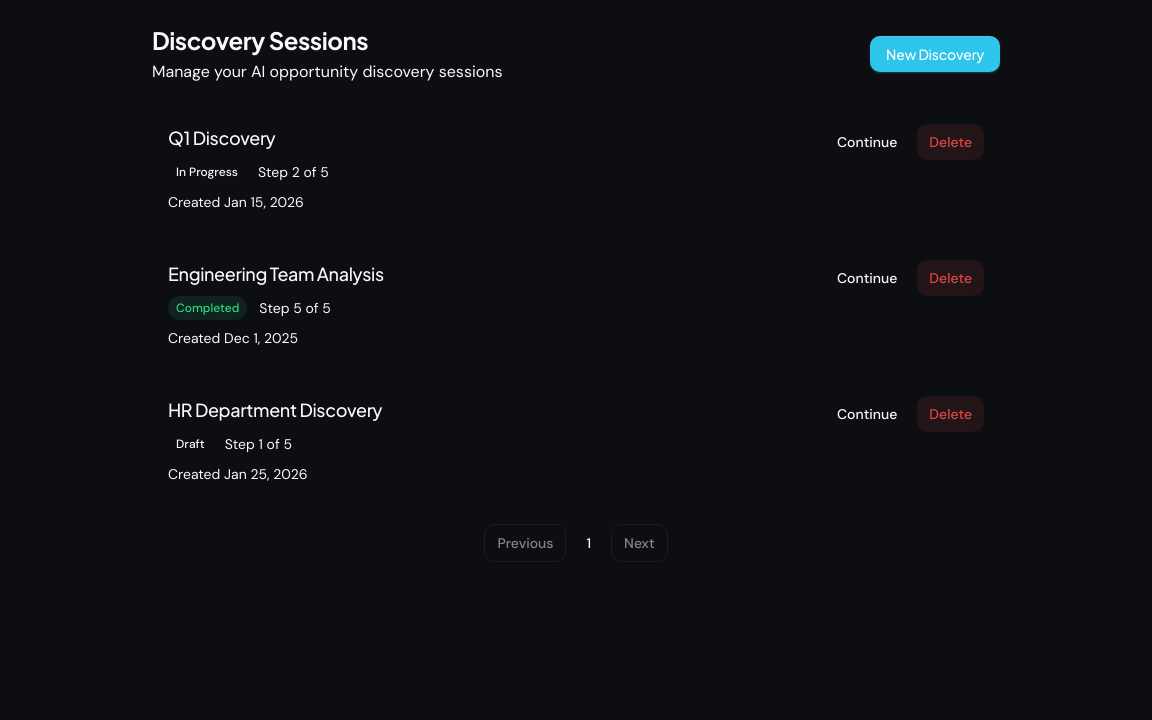
DiscoverySessionList › closes modal when canceling delete
# Click delete on first session
Click the button with aria-label "delete q1 discovery" at x=951, y=142, box [917,124,984,160]
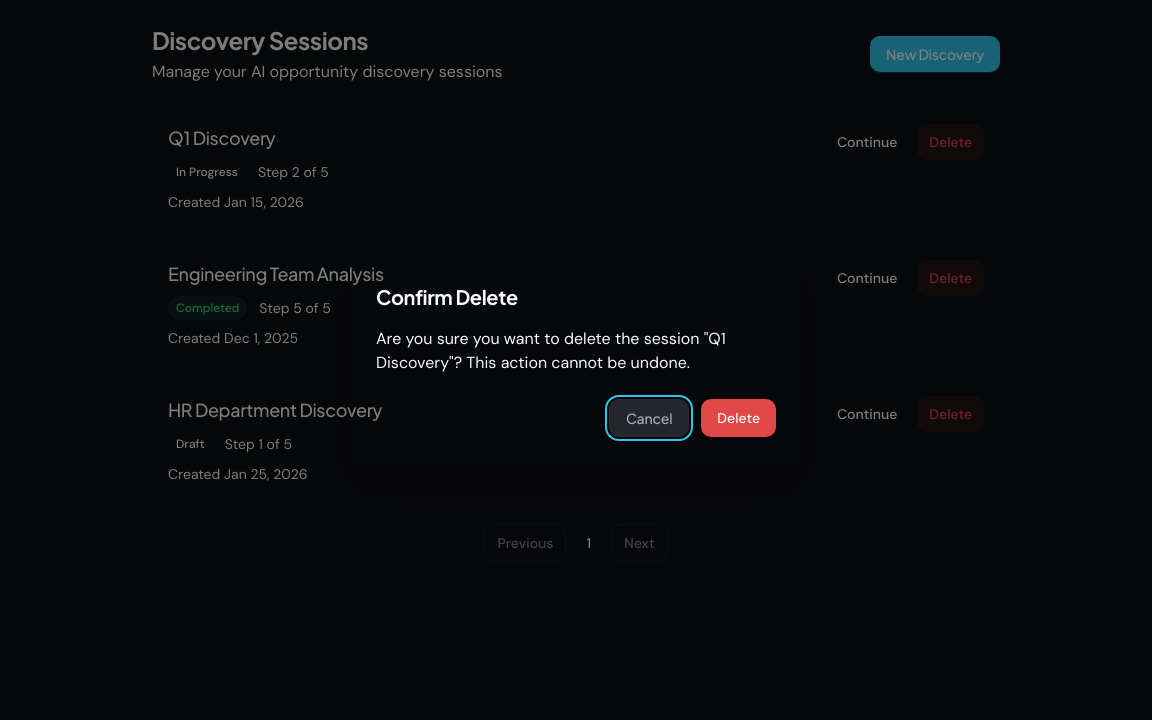
Check: the heading "Confirm Delete" is shown, box [376,284,518,309]
# Click cancel
Click the button with aria-label "cancel delete" at x=649, y=418, box [609,399,689,437]
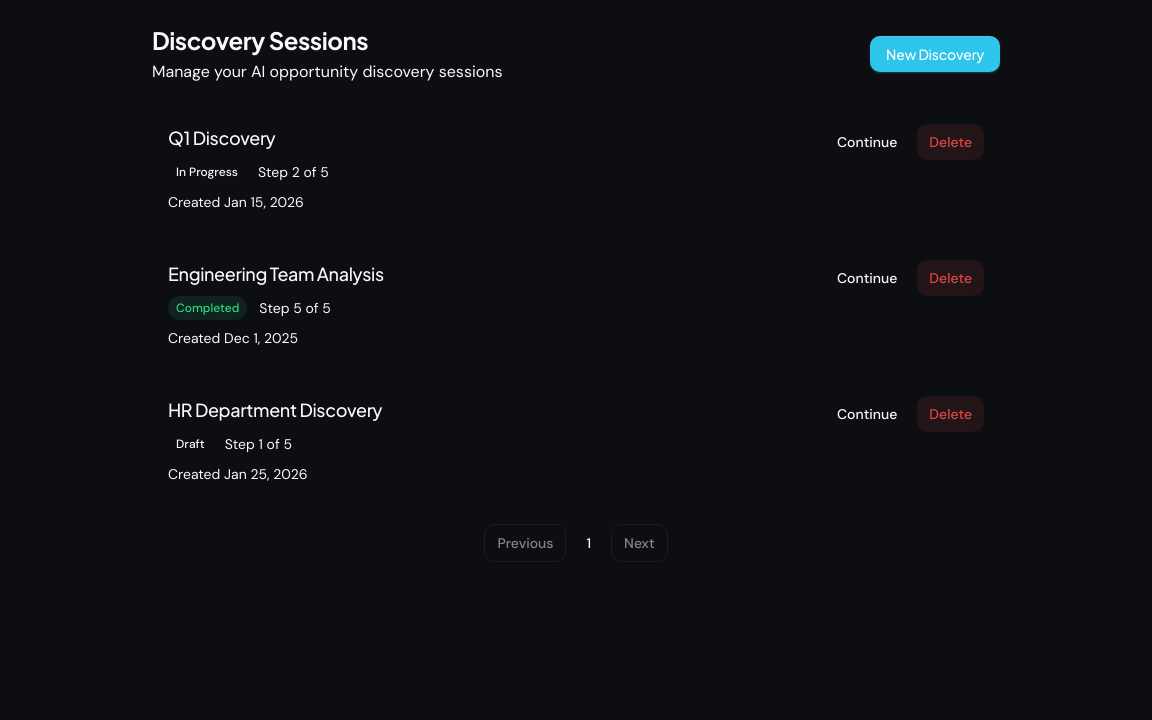
Check: the heading "Confirm Delete" is gone
